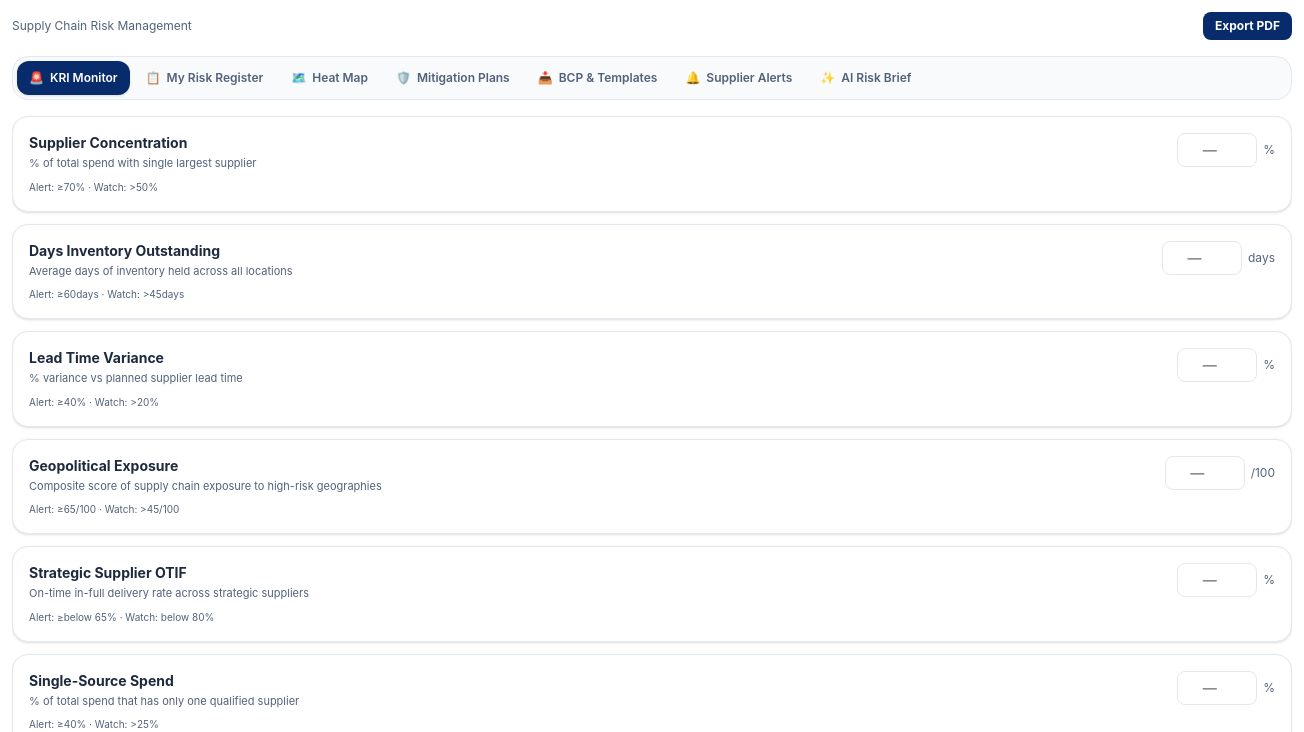
Test case: RiskToolsSection — SupplierAlertConfig thresholds persist across remount (Task 349) › pre-seeding localStorage with custom thresholds loads them on first mount
Step 1. Click the tab "🔔 Supplier Alerts" → (739, 78), box [673,61,804,95]
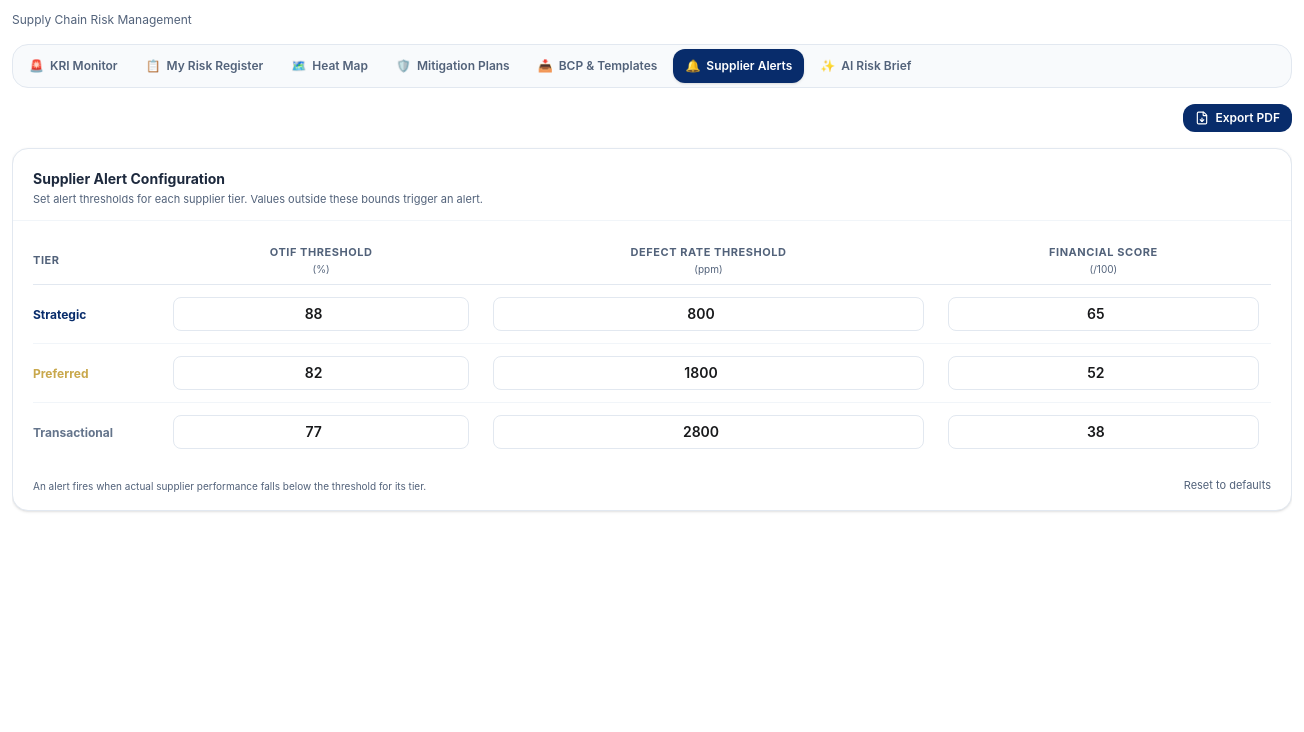
Expected: the number field named "Strategic — OTIF Threshold (%)" holds "88", [173,298,469,332]
